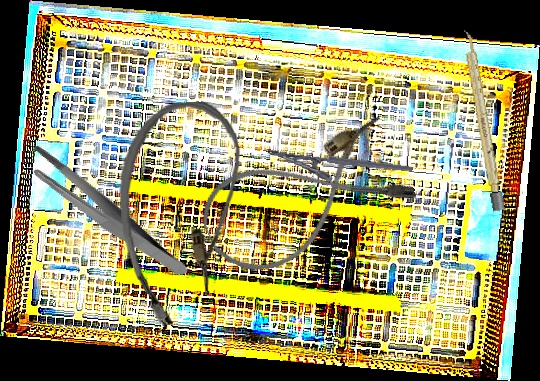Cannula: (190, 110, 420, 288), (113, 98, 253, 329)
Dressing Forceps: (21, 117, 190, 310)
Needle Holder: (264, 148, 414, 192)
Scalpel Handle: (461, 28, 505, 212)
